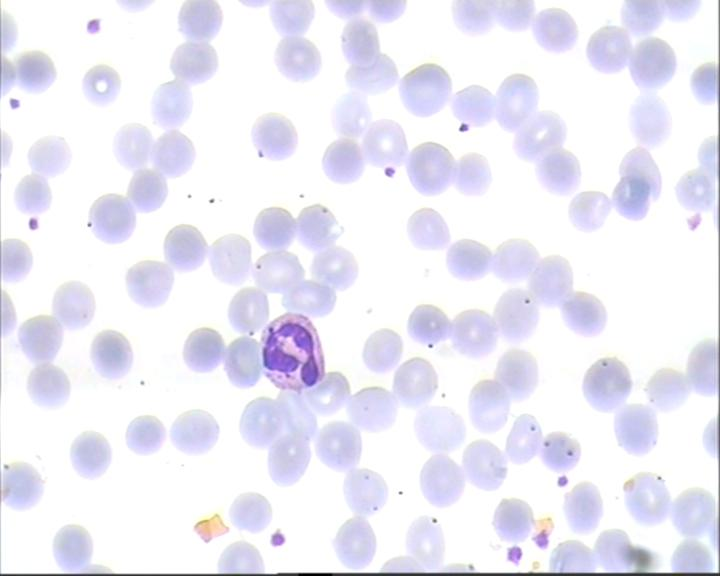neut: (255, 312, 329, 392)
